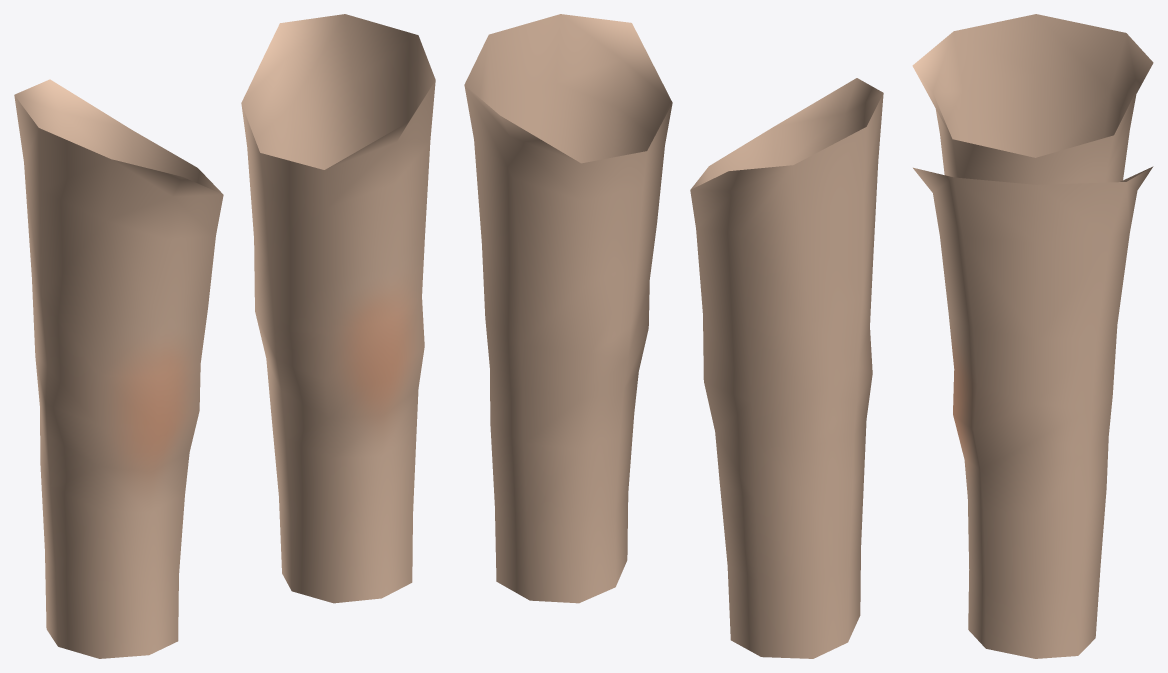
The model's file is Body_LegC_2.fbx.
The picture shows the model from 3 angles, left to right: view 1: azimuth 30°, elevation 25°; view 2: azimuth 150°, elevation 25°; view 3: azimuth 270°, elevation 25°; orthographic projection. The views are drawn at different scales.
Visible parts, largest first — view 1: Body_LegC_2; view 2: Body_LegC_2; view 3: Body_LegC_2.
Boxes of the visible parts, <box> form: Body_LegC_2: <box>14,14,435,658</box>; Body_LegC_2: <box>464,14,883,658</box>; Body_LegC_2: <box>912,14,1153,658</box>.
Bounding box in the file's own units: 33.18 × 44.04 × 19.8.
